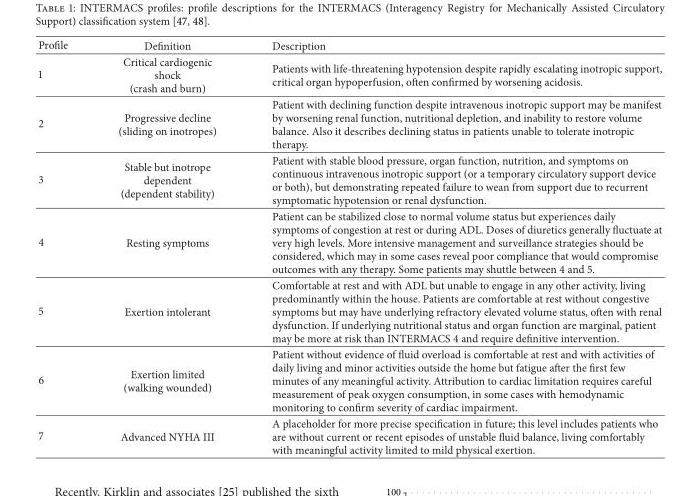table: (37, 36, 661, 456)
table column: (243, 36, 661, 456), (92, 36, 243, 456), (37, 36, 92, 456)
table column header: (37, 36, 661, 53)
table row: (37, 207, 661, 276), (37, 276, 661, 345), (37, 345, 661, 414), (37, 95, 661, 151), (37, 151, 661, 207), (37, 53, 661, 95), (37, 414, 661, 456), (37, 36, 661, 53)
